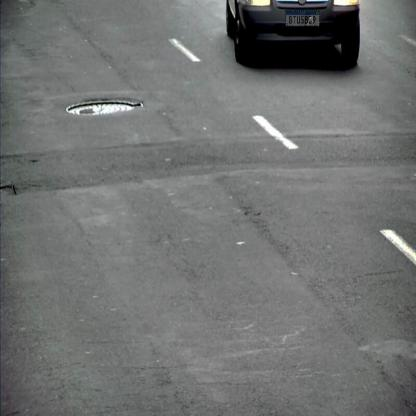PlacaM: (285, 10, 320, 26)
